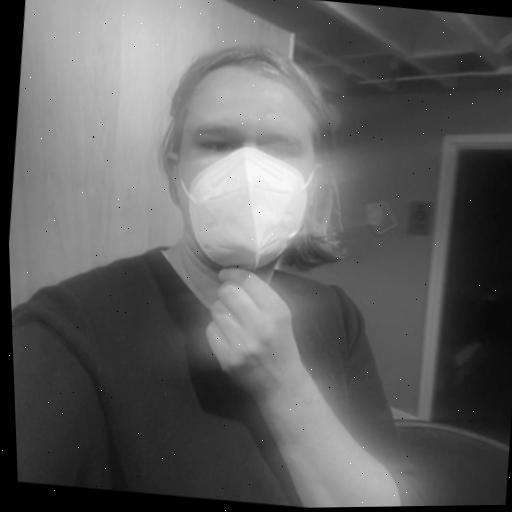mask: (143, 35, 363, 297)
